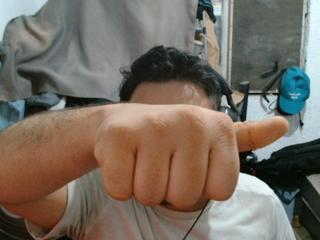Izquierda: (83, 97, 294, 213)
